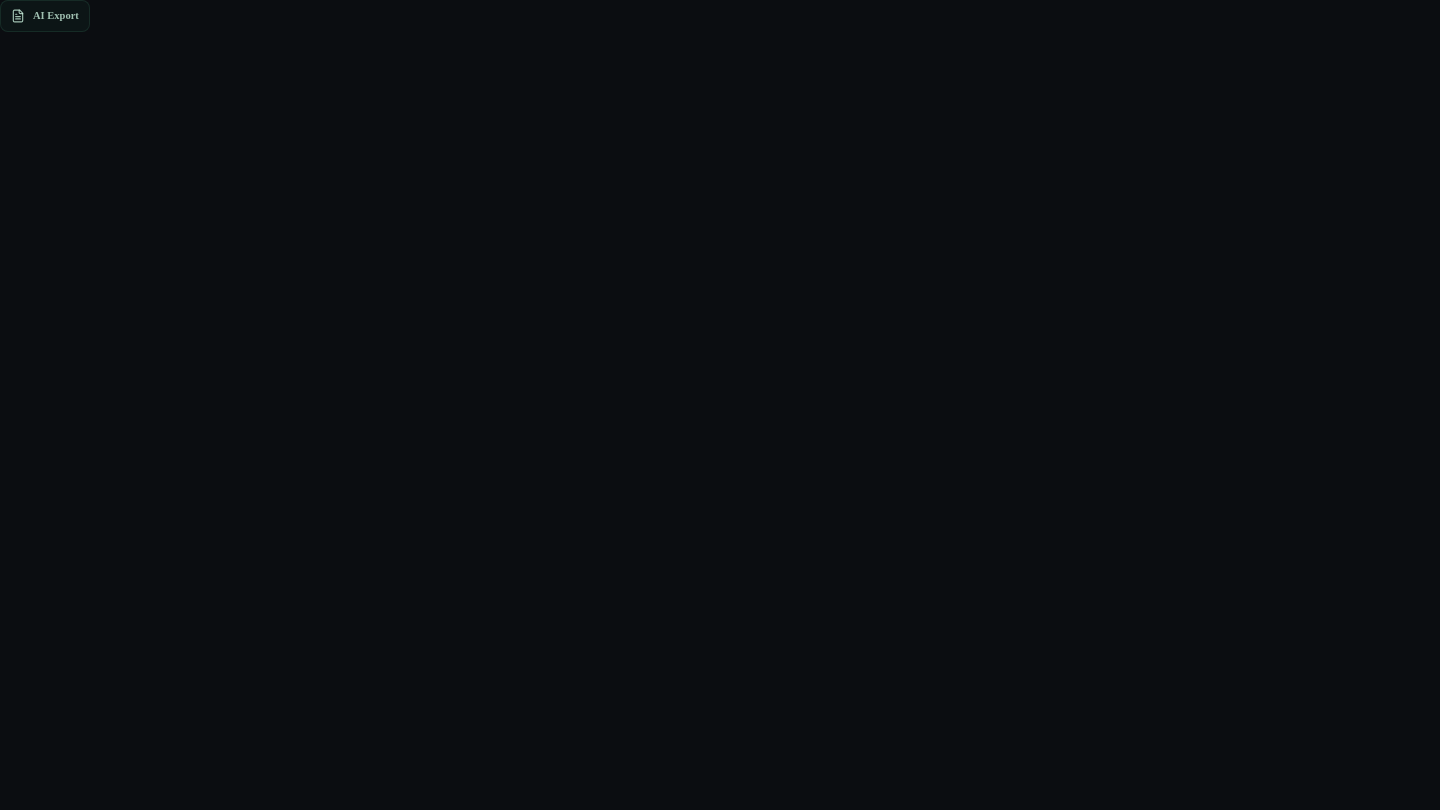
Test: single-file AI export control › requires private-web unlock and passes its key into the export without storing the passphrase
Click the button with test id "library-ai-export-button".
click(45, 16)  # box [0, 0, 90, 32]
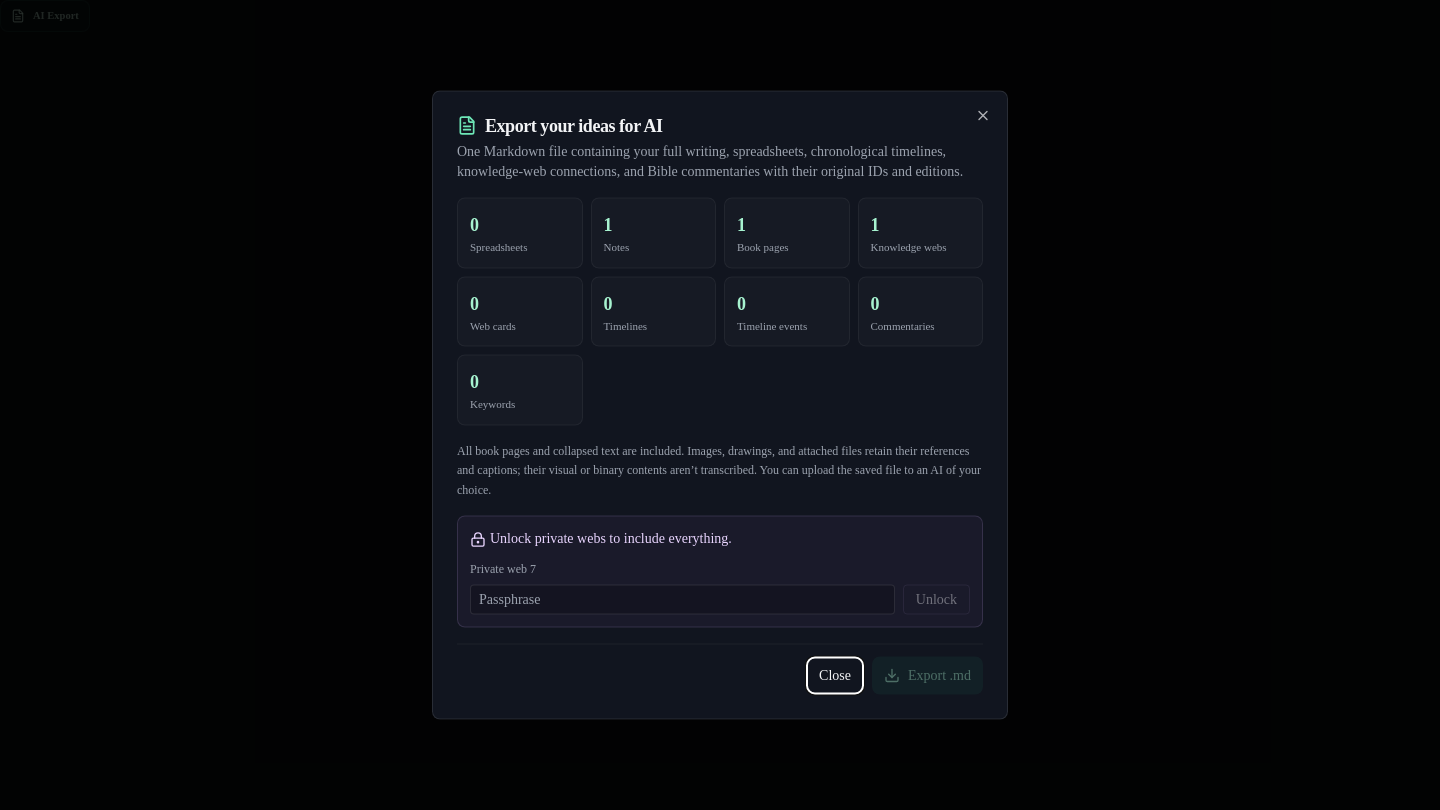
Now the button with test id "ai-export-save" is disabled, box [872, 656, 983, 694]
Type "synthetic passphrase" into the password field with placeholder "Passphrase".
click(682, 600); type("synthetic passphrase")  # box [470, 584, 895, 614]
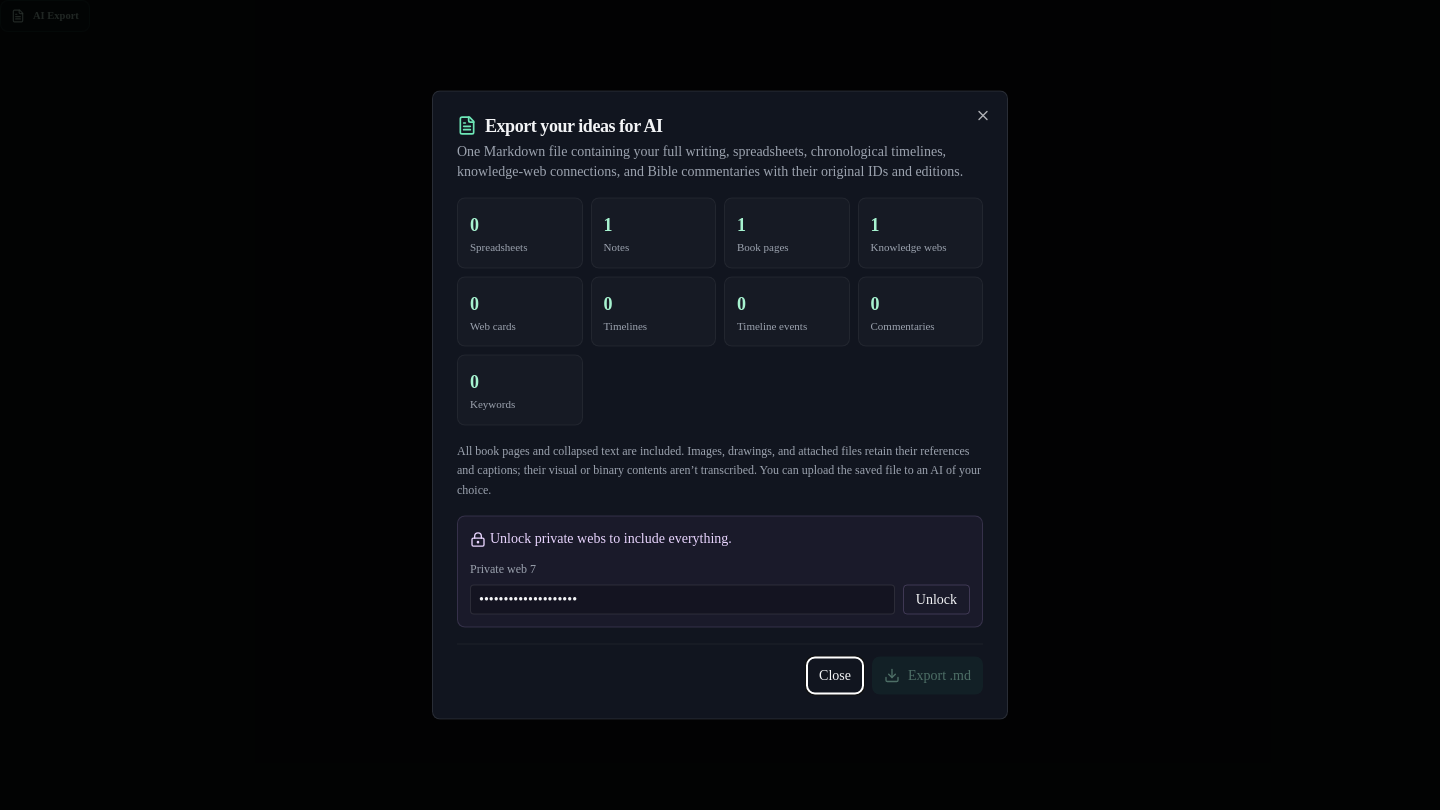
Click the button "Unlock".
click(936, 600)  # box [903, 584, 970, 614]
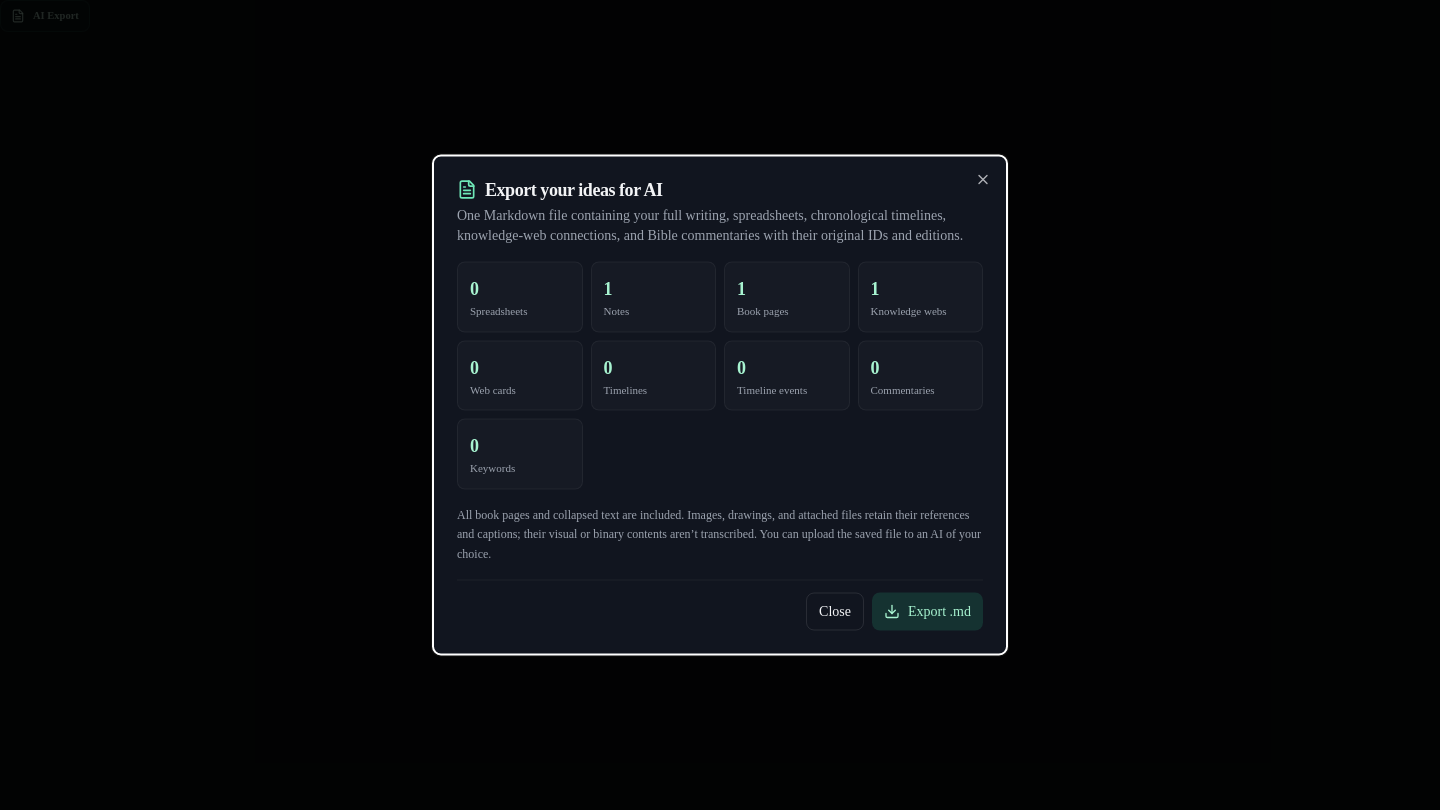
Now the button with test id "ai-export-save" is enabled
Click the button with test id "ai-export-save".
click(928, 612)  # box [872, 592, 983, 630]
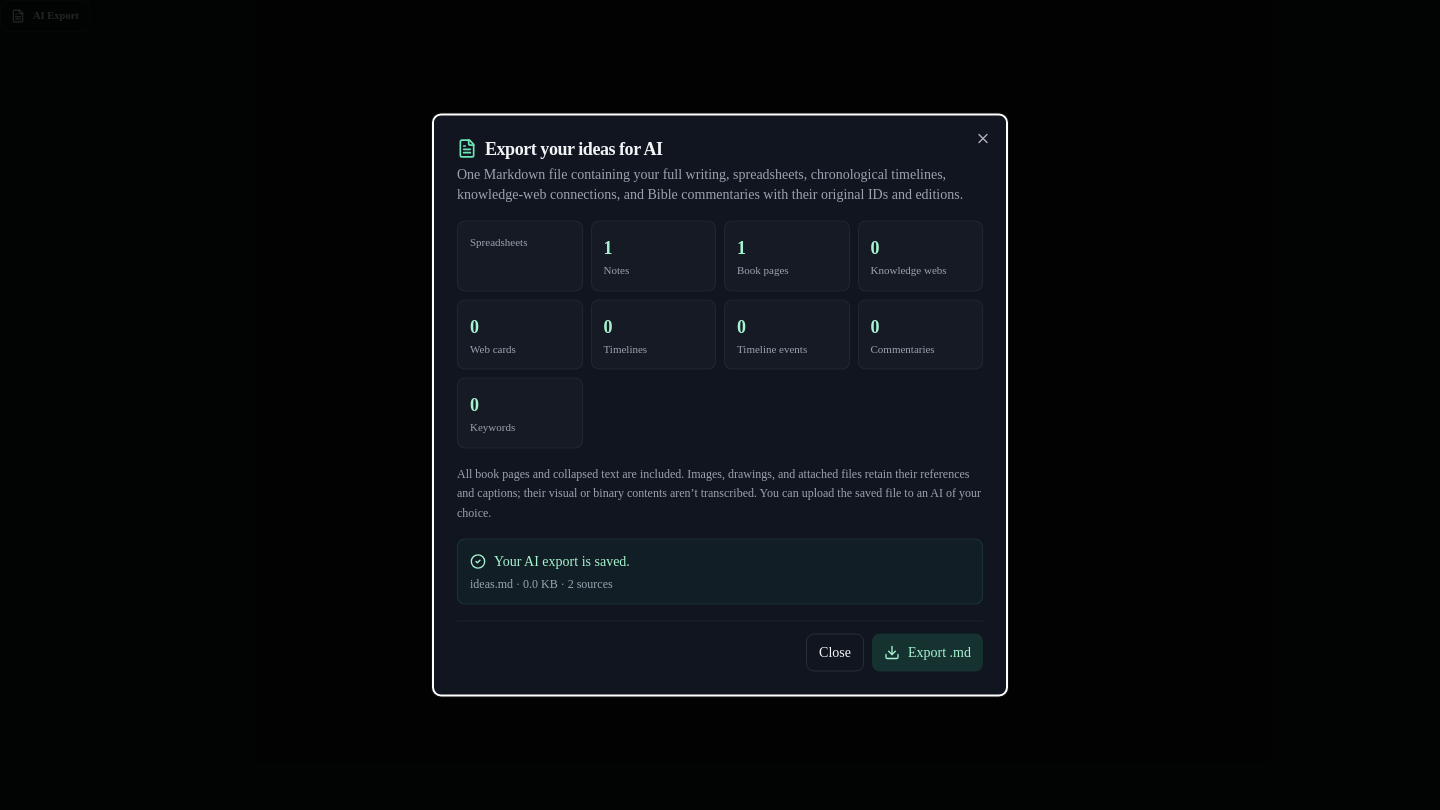
Now the text "Your AI export is saved." is shown, box [470, 554, 630, 570]
